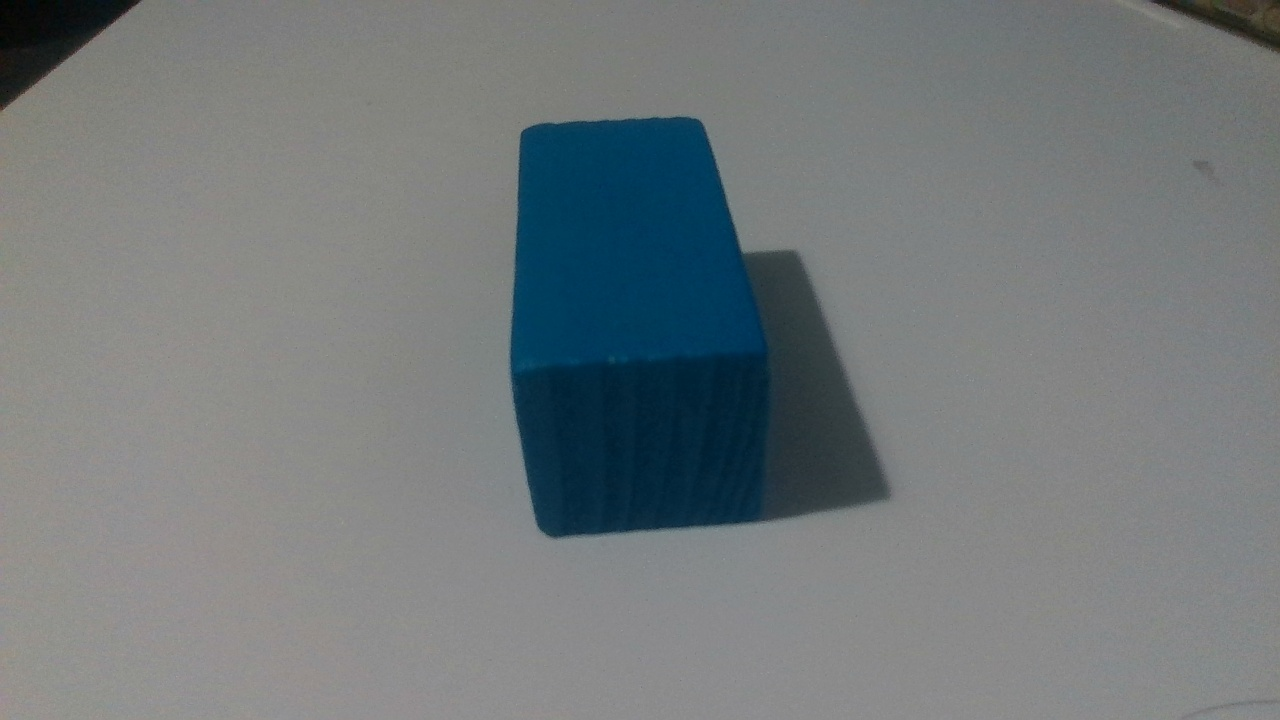cube: (430, 139, 646, 484)
